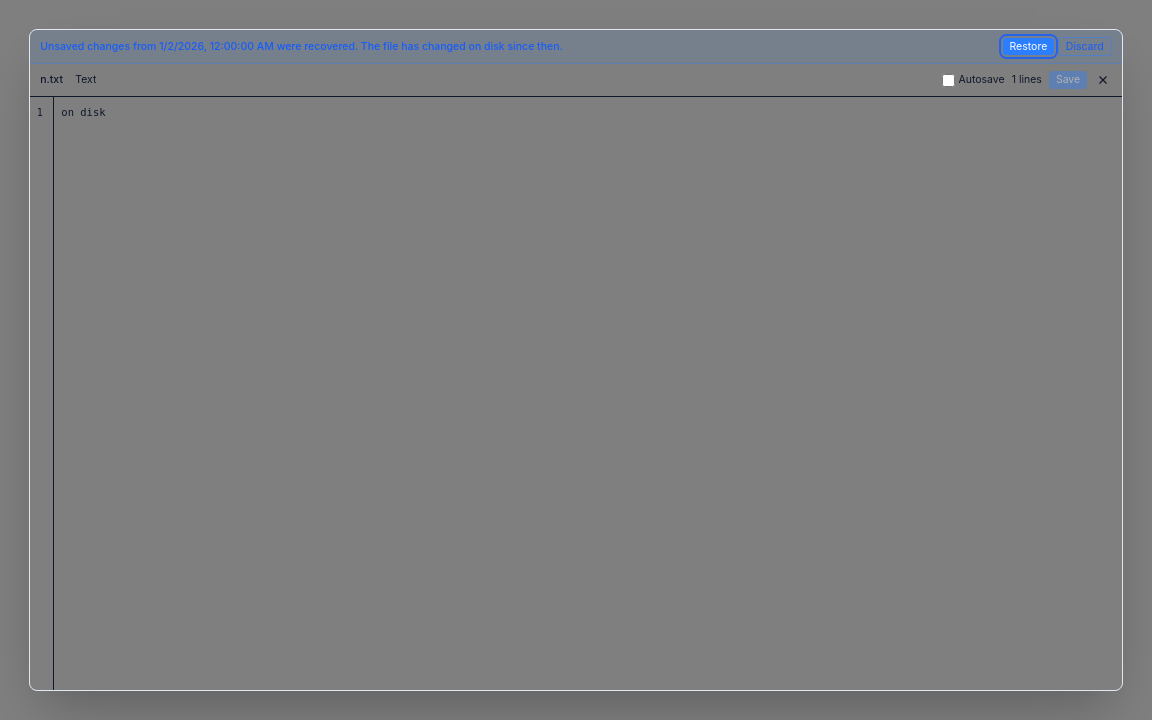
it: editor drafts › offers a leftover draft and restores it as unsaved
This screenshot has width=1152, height=720.
Expected: the message named "Recovered draft" shows "changed on disk since then", [358,40,563,52]
Click the button "Restore" at (1028, 47), box [1002,38,1054,55]
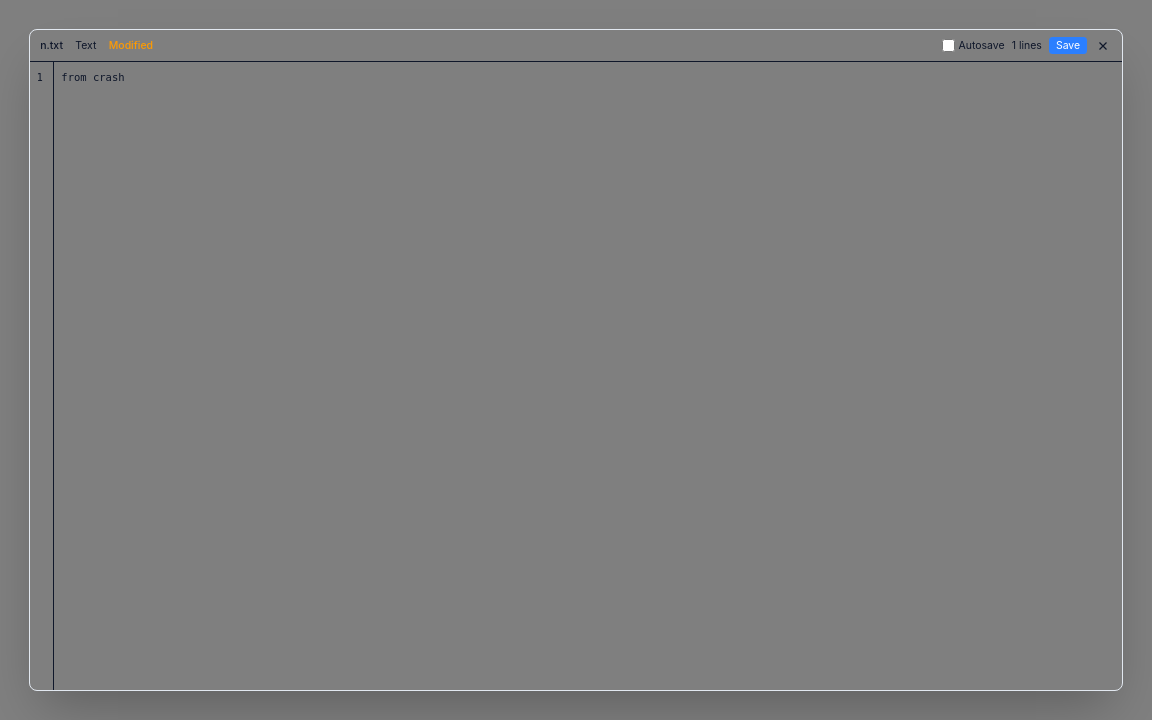
Expected: the text box holds "from crash"
Expected: the text "Modified" is shown, [109,38,153,52]
